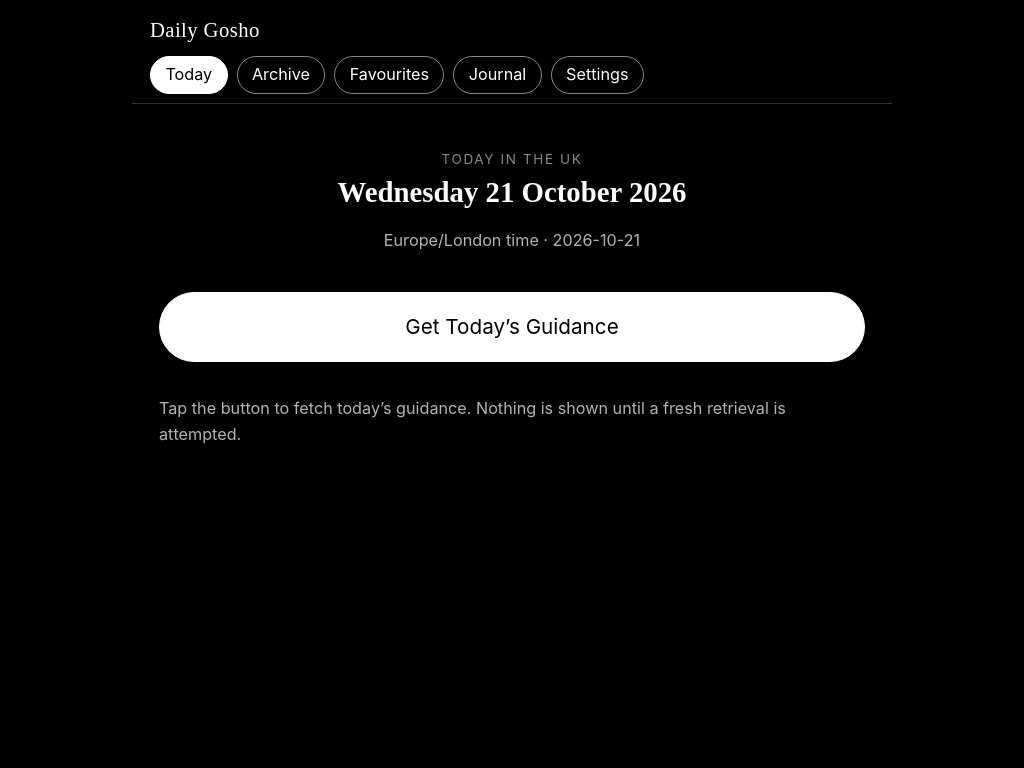
Today screen › shows the reflection, labelled as template-based and not as AI
Click the button "Get Today’s Guidance" at x=512, y=327, box x1=159 y1=292 x2=865 y2=362
(page scrolled)
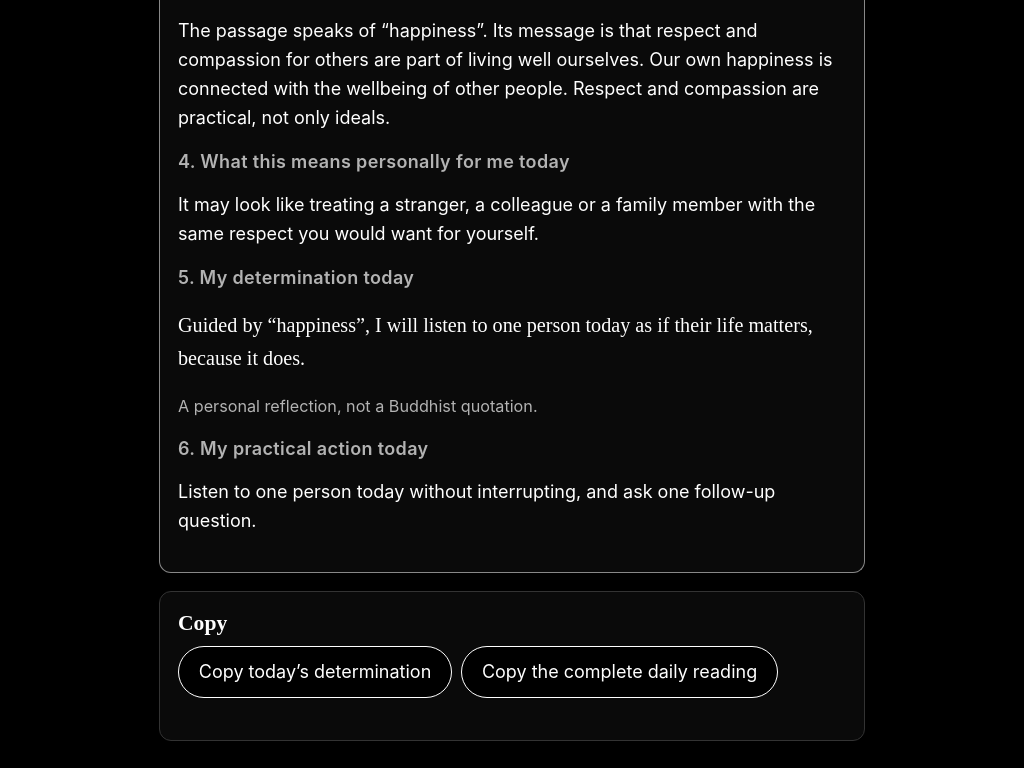
Now the heading "5. My determination today" is shown, box x1=178 y1=267 x2=414 y2=288
Now the text "A personal reflection, not a Buddhist quotation." is shown, box x1=178 y1=396 x2=538 y2=416
